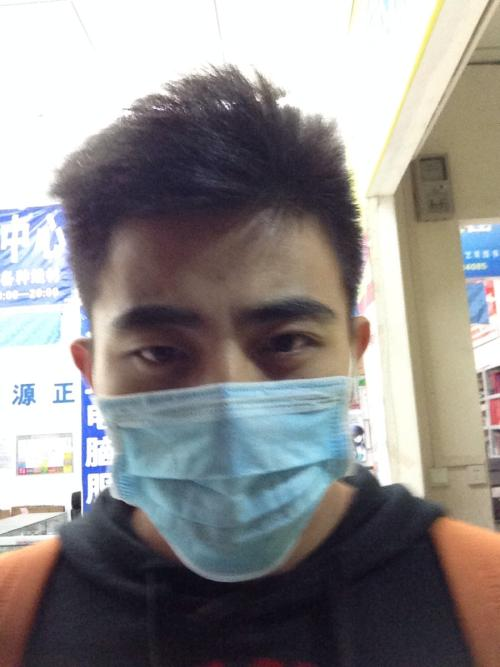mask: (92, 383, 356, 586)
